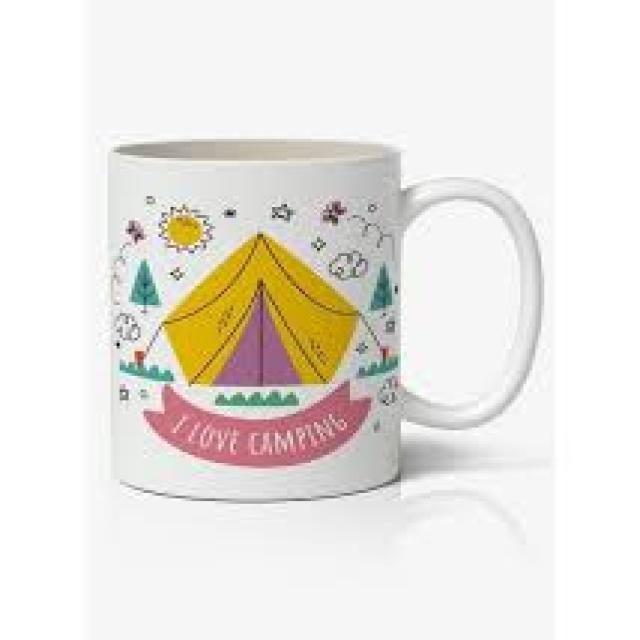taza: (107, 137, 545, 506)
